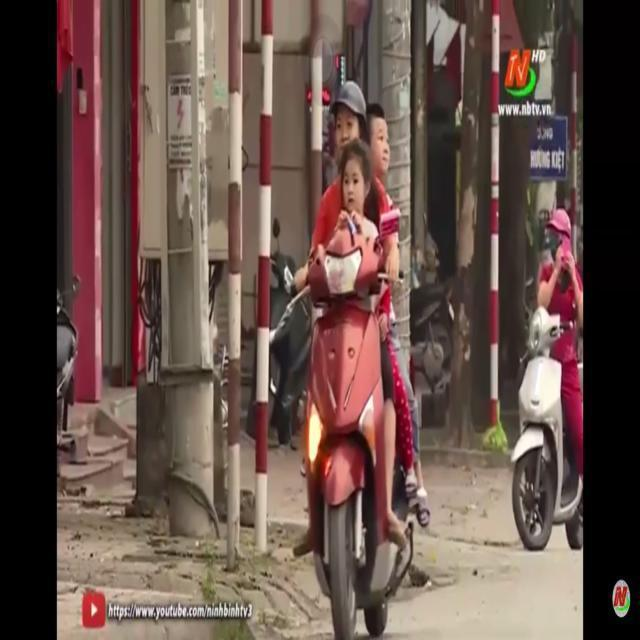motorcycle: (295, 213, 425, 640), (502, 302, 582, 548)
person: (302, 78, 384, 356), (356, 100, 411, 348), (529, 212, 587, 426), (328, 141, 376, 307)
rider_region: (291, 69, 435, 640), (498, 203, 590, 552)
